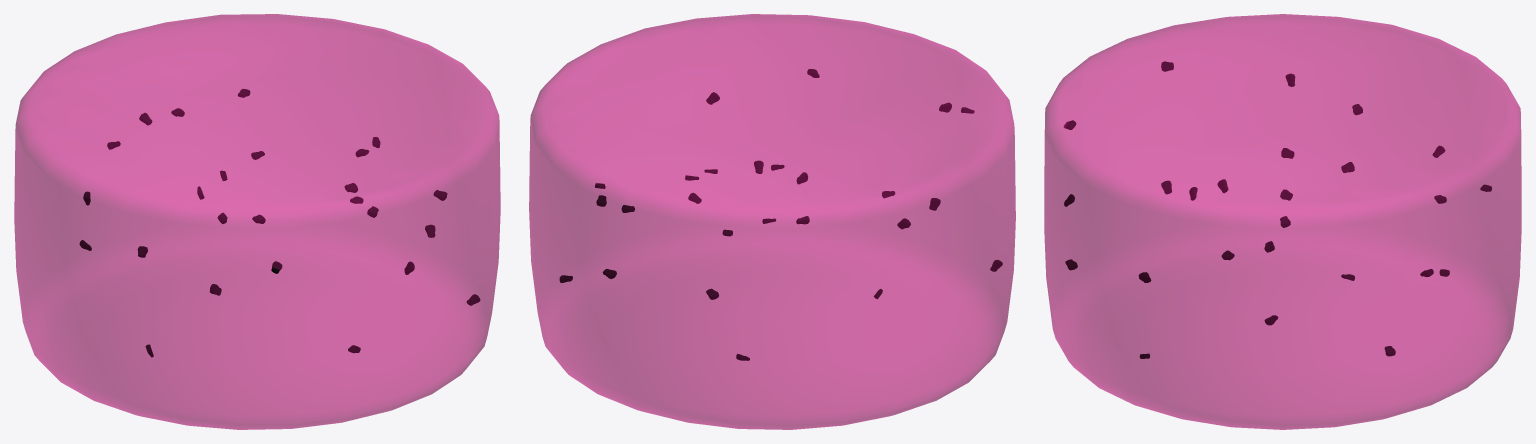
The model's file is Jam_Pot.FBX.
The picture shows the model from 3 angles, left to right: view 1: azimuth 30°, elevation 25°; view 2: azimuth 150°, elevation 25°; view 3: azimuth 270°, elevation 25°; orthographic projection.
Visible parts, largest first — view 1: Cylinder079; view 2: Cylinder079; view 3: Cylinder079.
Part boxes in pixels (x1,y1,x2,y2): Cylinder079: (14,14,500,429); Cylinder079: (529,14,1015,429); Cylinder079: (1044,14,1521,429).
Size of the model in its own units: 633 by 345 by 622.
